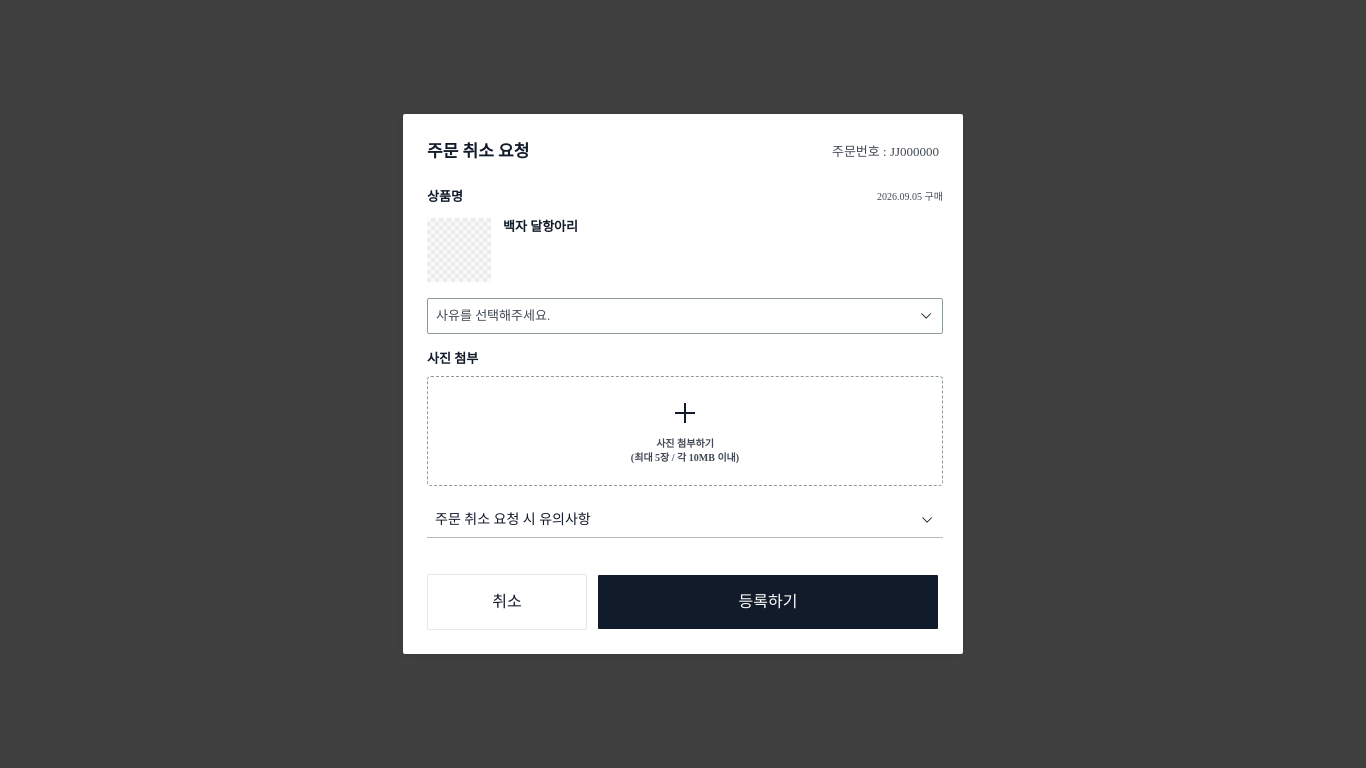
Test: OrderCancelRequestModal › 사유를 선택하지 않으면 제출되지 않는다
Click the button "등록하기".
click(768, 602)  # box [597, 574, 939, 630]
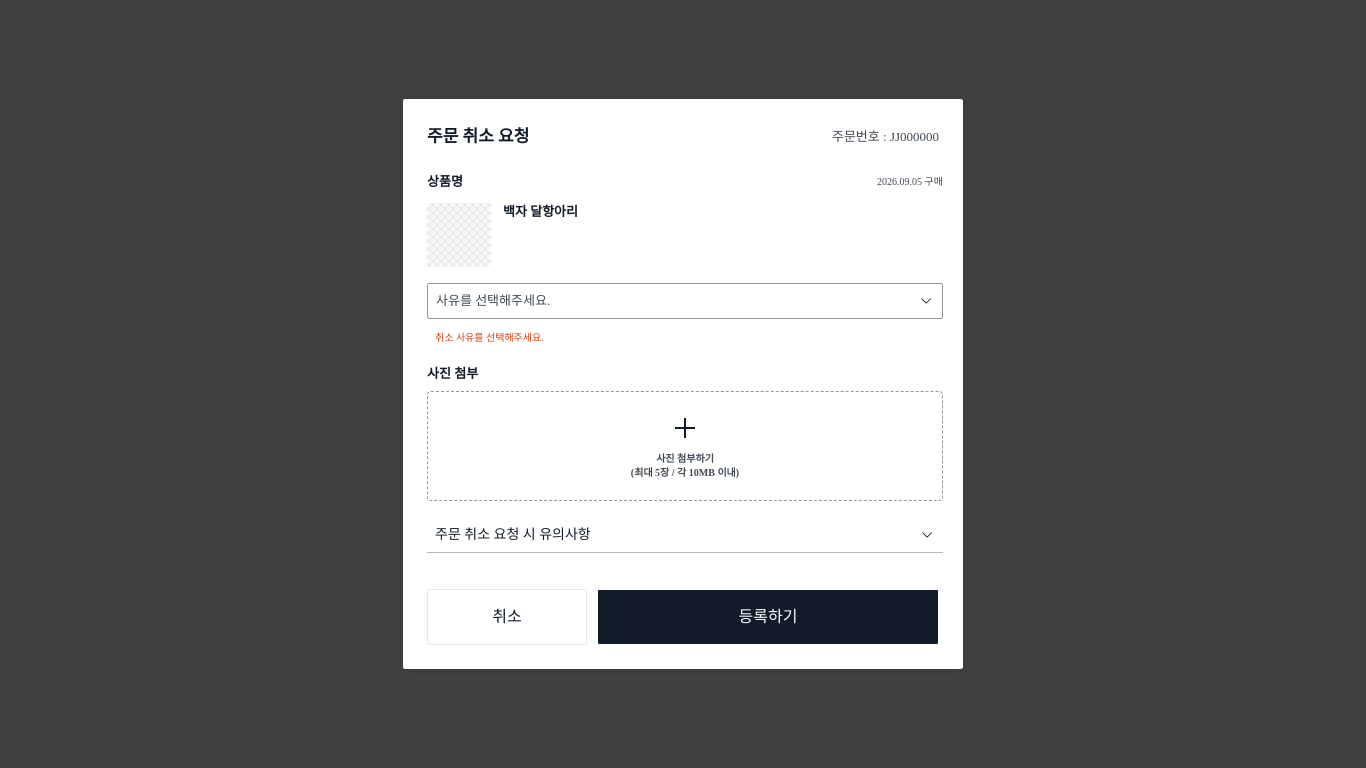
Check: the text "취소 사유를 선택해주세요." is shown, box [435, 332, 544, 343]
